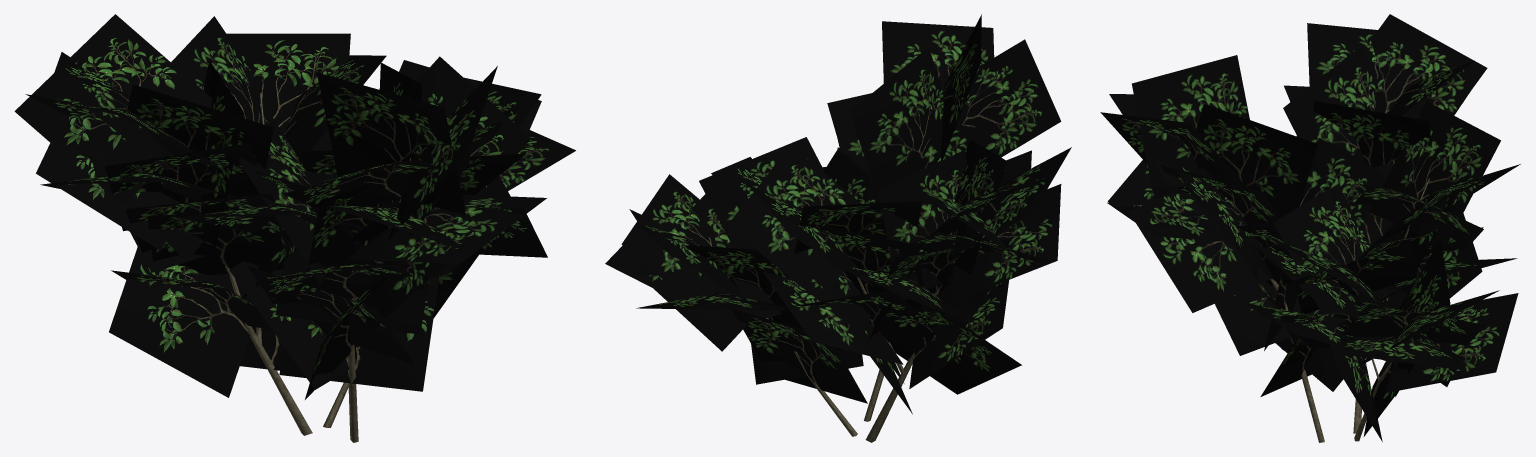
The model's file is MK4_Ficus3.DAE.
The picture shows the model from 3 angles, left to right: view 1: azimuth 30°, elevation 25°; view 2: azimuth 150°, elevation 25°; view 3: azimuth 270°, elevation 25°; orthographic projection. The views are drawn at different scales.
Parts seen in each view (by area): view 1: MK4_Ficus3; view 2: MK4_Ficus3; view 3: MK4_Ficus3.
Boxes of the visible parts, x1,y1,x2,y2 form: MK4_Ficus3: (14,14,575,442); MK4_Ficus3: (605,14,1071,442); MK4_Ficus3: (1100,14,1520,442).
Size of what is drawn, in the model's own units: 18.95 by 16.36 by 15.12.
